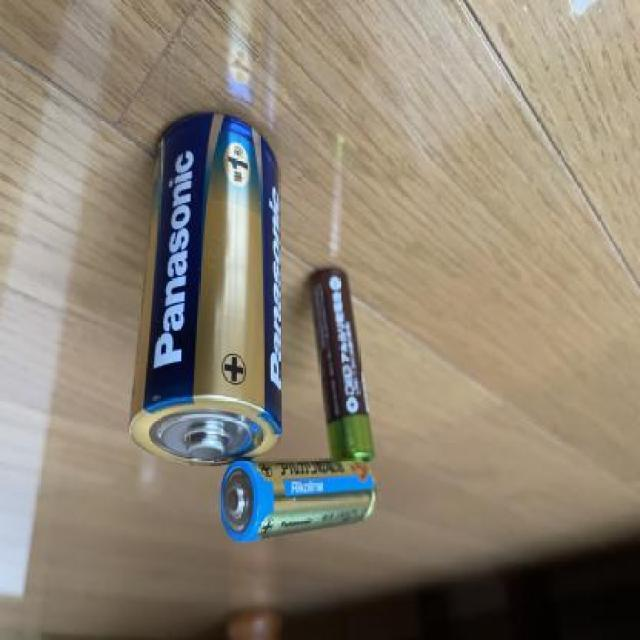hazardous waste: (124, 108, 284, 468), (216, 454, 378, 544), (308, 264, 377, 470)
